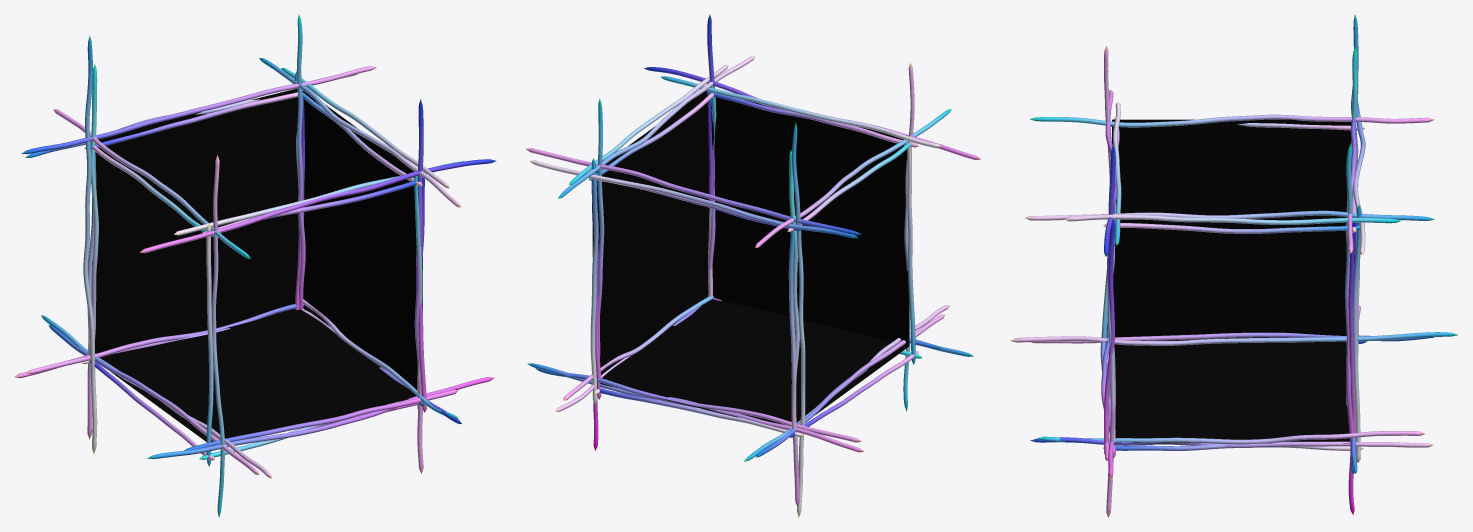
File: crayonBoxV10.fbx
3 views of the same model, side by side, from view 1: azimuth 30°, elevation 25°; view 2: azimuth 150°, elevation 25°; view 3: azimuth 270°, elevation 25° (orthographic). The views are drawn at different scales.
Visible parts, largest first — view 1: CubeORIGINAL.009; view 2: CubeORIGINAL.009; view 3: CubeORIGINAL.009.
Boxes of the visible parts, x1=… form: CubeORIGINAL.009: x1=14, y1=14, x2=495, y2=517; CubeORIGINAL.009: x1=526, y1=14, x2=980, y2=517; CubeORIGINAL.009: x1=1010, y1=14, x2=1457, y2=517.
Bounding box in the file's own units: 16771 × 18619 × 18096.
